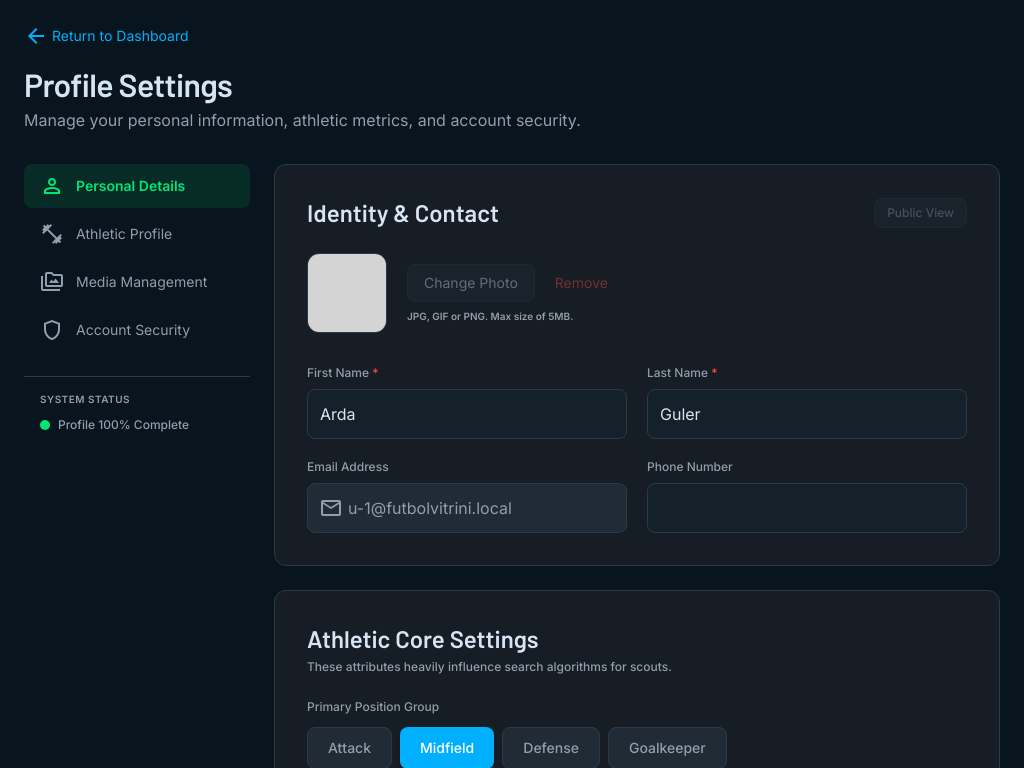
ProfileSettings › alan degistirilince kaydetme cubugu belirir
Check: the button "Save Changes" is not shown
Step 1. Type "x" into the field labelled "First Name *" → point(467, 414), box x1=307 y1=389 x2=627 y2=439
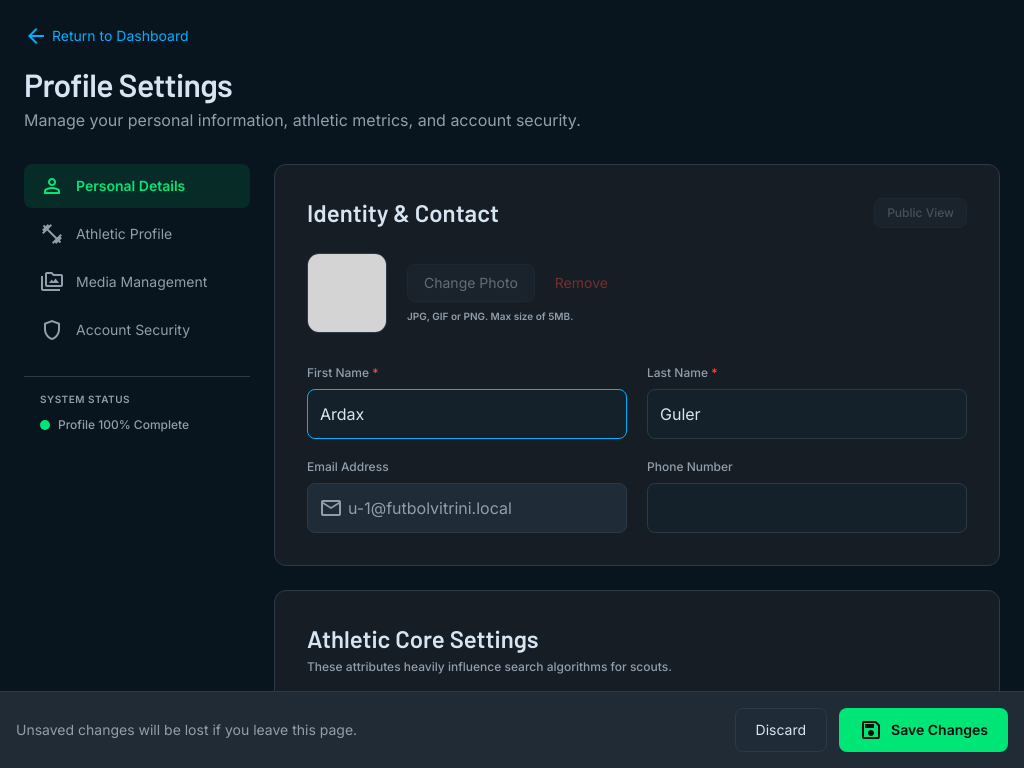
Check: the button "Save Changes" is shown, box x1=839 y1=708 x2=1008 y2=752
